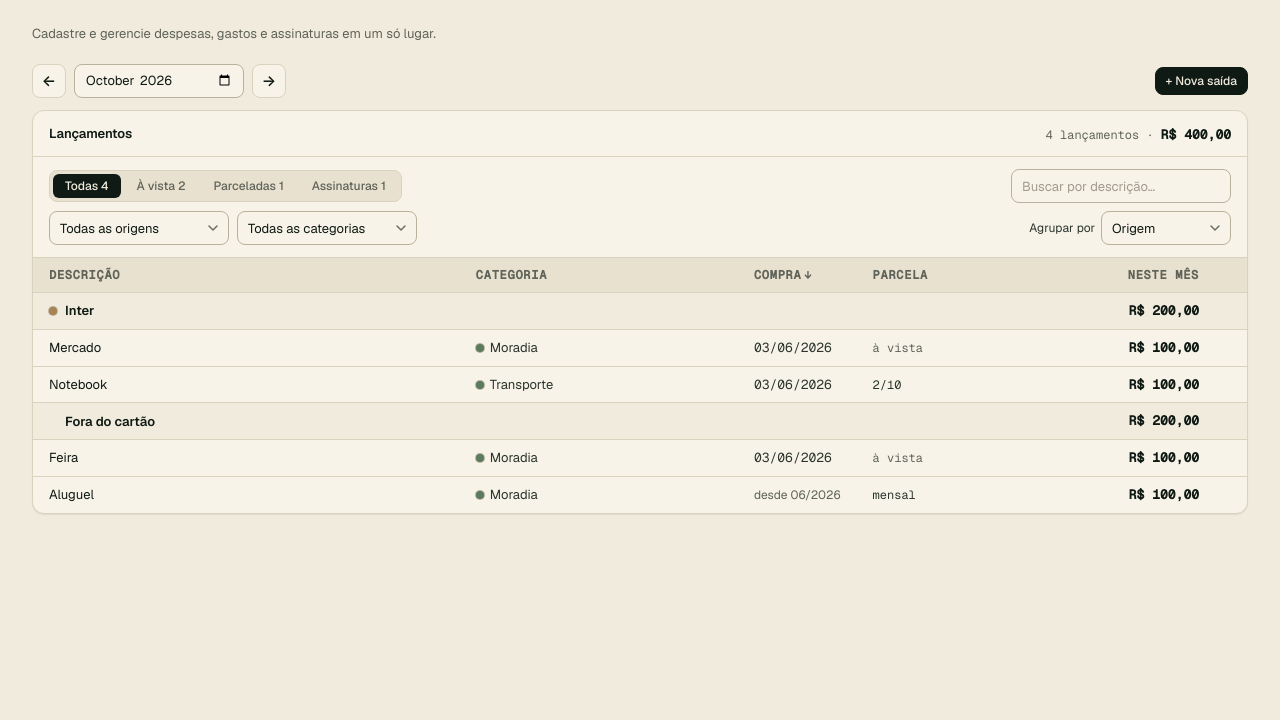
Test: SaidasPage — filtros (RF-DES-23) › a origem "Fora do cartão" inclui a recorrente no Pix
Expected: the row "Mercado Moradia 03/06/2026 à vista R$ 100,00" is shown, [33,329,1247,366]
Step 1. Select "Fora do cartão" in the dropdown named "Filtrar por origem" → (139, 228), box [49,211,229,245]
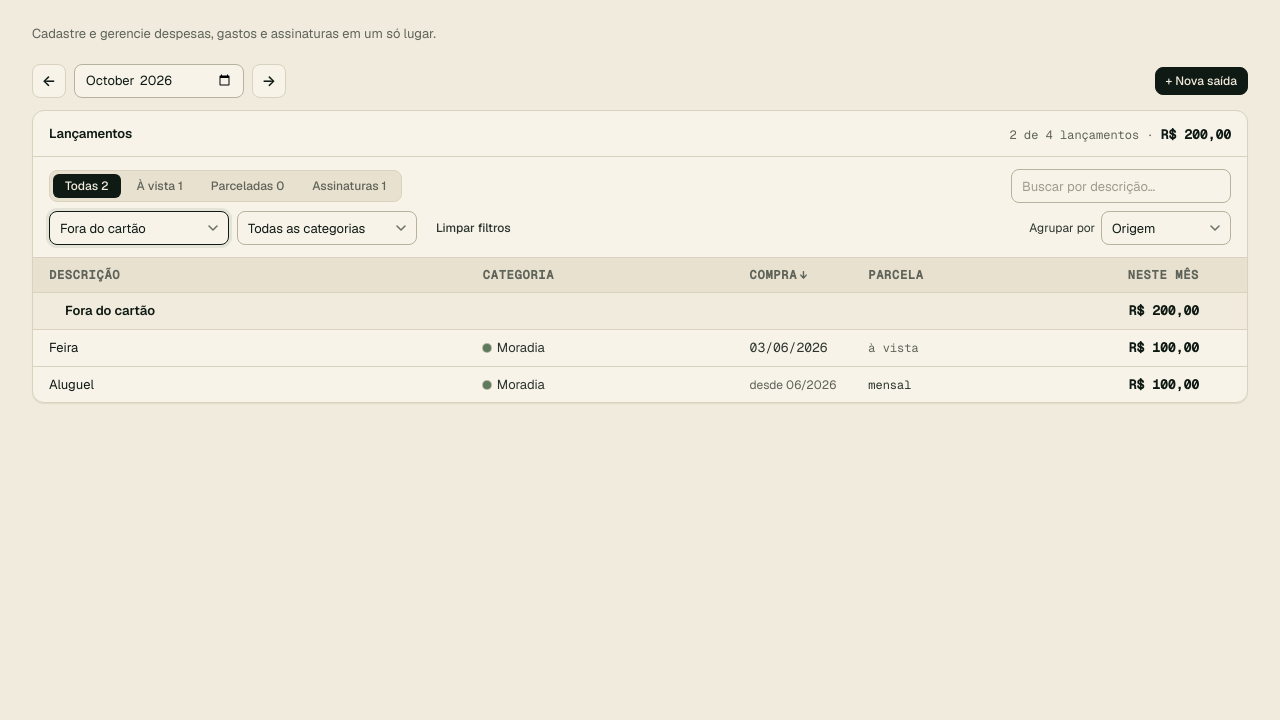
Expected: the row "Aluguel Moradia desde 06/2026 mensal R$ 100,00" is shown, [33,366,1247,402]
Now the text "Mercado" is gone
